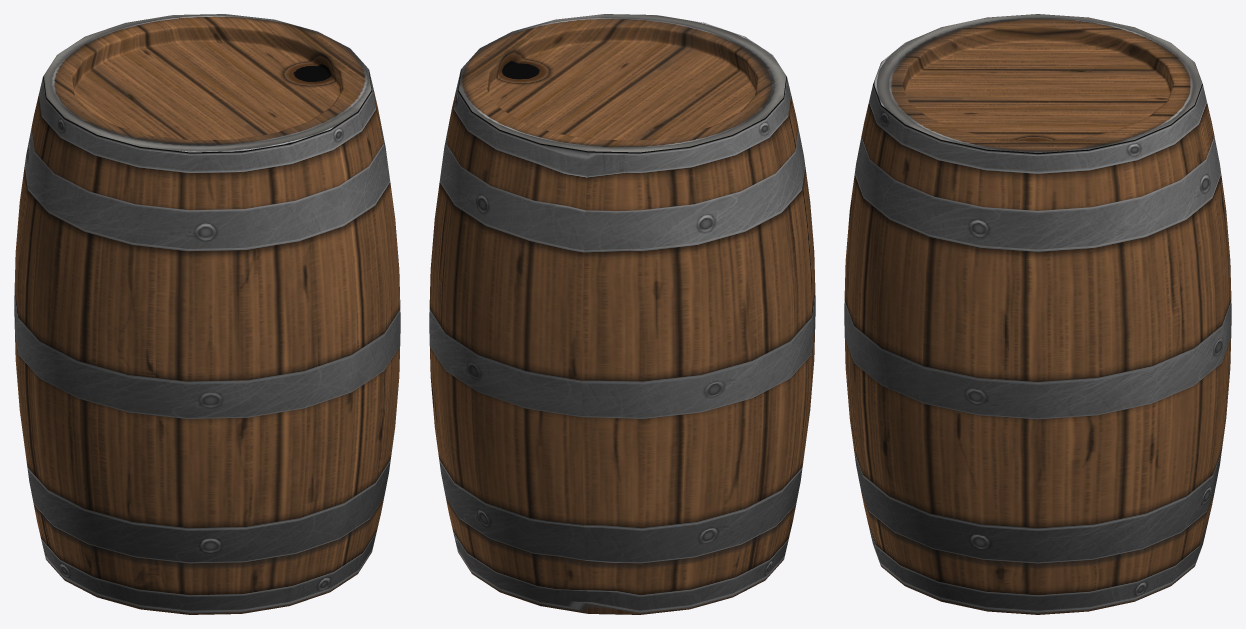
File: Barrel.fbx
3 views of the same model, side by side, from view 1: azimuth 30°, elevation 25°; view 2: azimuth 150°, elevation 25°; view 3: azimuth 270°, elevation 25° (orthographic).
Parts seen in each view (by area): view 1: Barrel; view 2: Barrel; view 3: Barrel.
Part boxes in pixels (x1,y1,x2,y2): Barrel: [14, 14, 400, 614]; Barrel: [429, 14, 815, 614]; Barrel: [844, 14, 1231, 614].
Bounding box in the file's own units: 6.89 × 9.06 × 6.88.
Materials: 1 (1 with a texture image).
